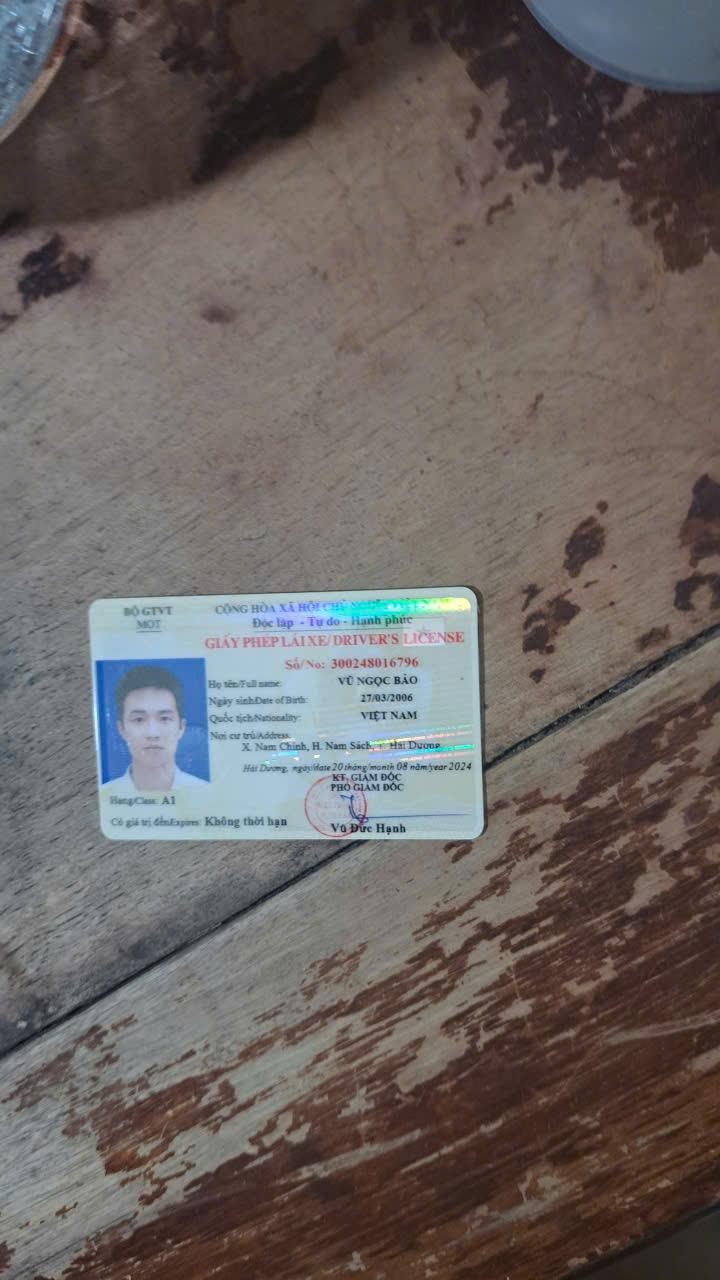gplx: (86, 585, 491, 847)
